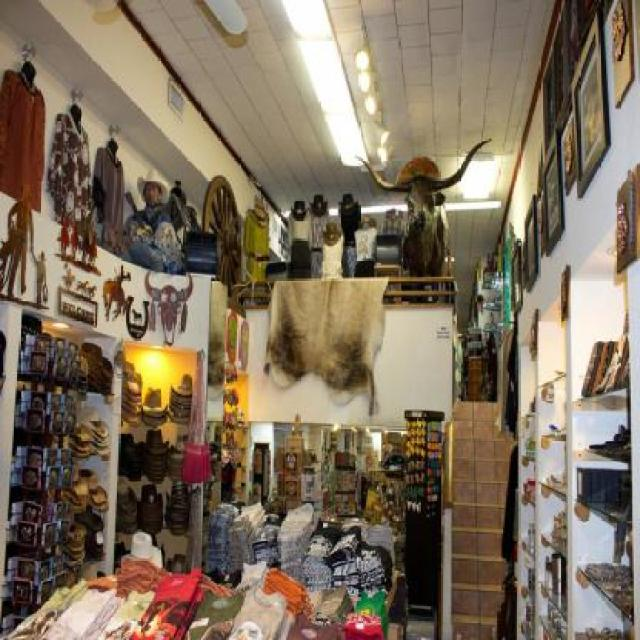obstacle: (119, 166, 178, 279)
